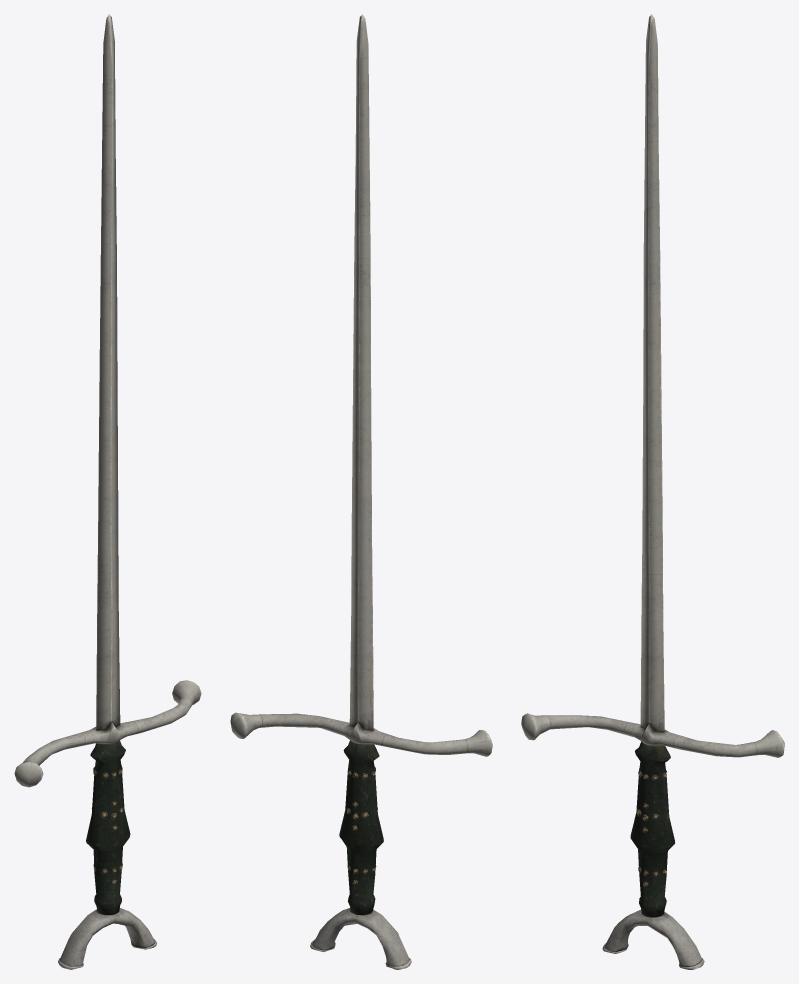
Rendered from antique_estoc.glb.
3 renders of one model, left to right at view 1: azimuth 30°, elevation 25°; view 2: azimuth 150°, elevation 25°; view 3: azimuth 330°, elevation 25°, orthographic.
Visible parts, largest first — view 1: antique_estoc; view 2: antique_estoc; view 3: antique_estoc.
Boxes of the visible parts, bbox=[...] form: antique_estoc: bbox=[14, 14, 201, 969]; antique_estoc: bbox=[230, 14, 492, 969]; antique_estoc: bbox=[521, 14, 784, 969].
Bounding box in the file's own units: 0.3715 × 1.49 × 0.149.
1 material, 1 textured.
